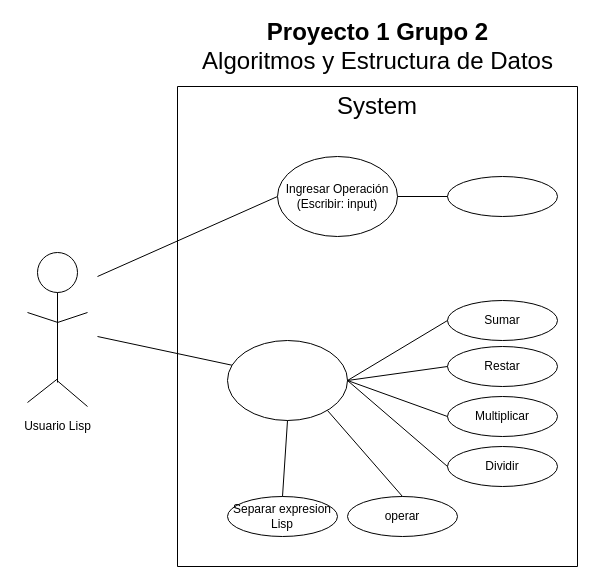
The diagram is 596 pixels wide and 585 high, and some of its shapes have lost their labels. The centre of each missing label's shape, as x and y in pixels:
Calcular operación (Calculate): the point at 287,380
Scanner: the point at 502,196
